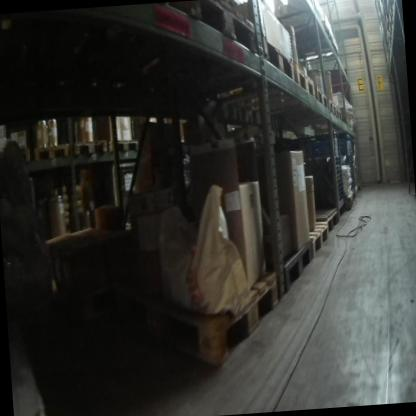pallet: (135, 260, 286, 383), (168, 34, 296, 109), (169, 0, 265, 66), (207, 68, 319, 123), (279, 235, 320, 302), (283, 82, 330, 125), (272, 19, 335, 48), (298, 217, 332, 264), (289, 36, 344, 63), (31, 131, 71, 166), (301, 203, 341, 237), (110, 130, 145, 160), (73, 137, 110, 164), (322, 90, 340, 122), (387, 36, 404, 57), (388, 8, 402, 30), (334, 101, 347, 123), (342, 191, 353, 214), (387, 24, 400, 40), (389, 0, 401, 12), (353, 185, 359, 199)
stillage: (280, 124, 346, 219), (331, 120, 358, 201), (346, 132, 364, 191)
